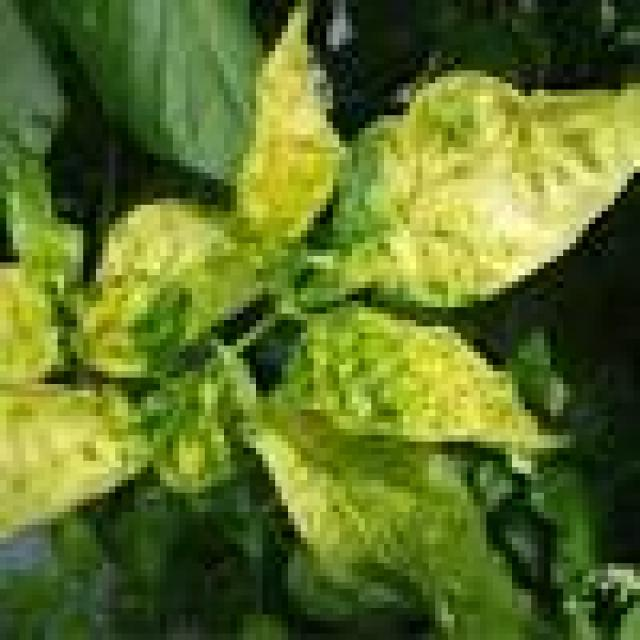virus_kuning: (269, 299, 579, 467), (219, 0, 362, 251)
